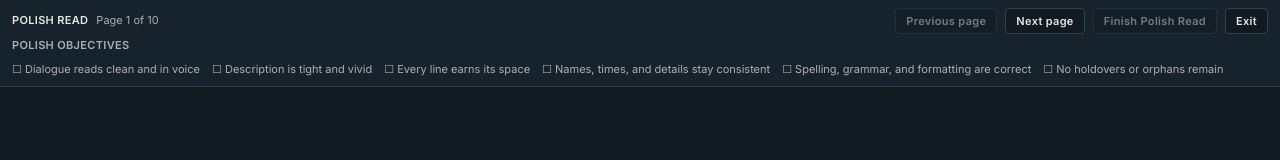
Scenario: the Polish Read bar › walks pages and only finishes at the last page
This screenshot has width=1280, height=160.
Check: the button "Finish Polish Read" is disabled, box [1093,8,1217,34]
Click the button "Next page" at [1045, 21], box [1005,8,1085,34]
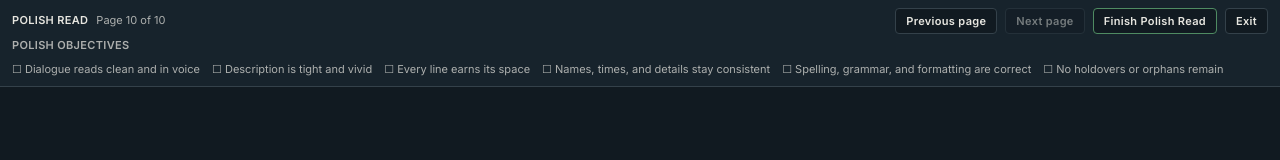
Check: the button "Finish Polish Read" is enabled, box [1093,8,1217,34]
